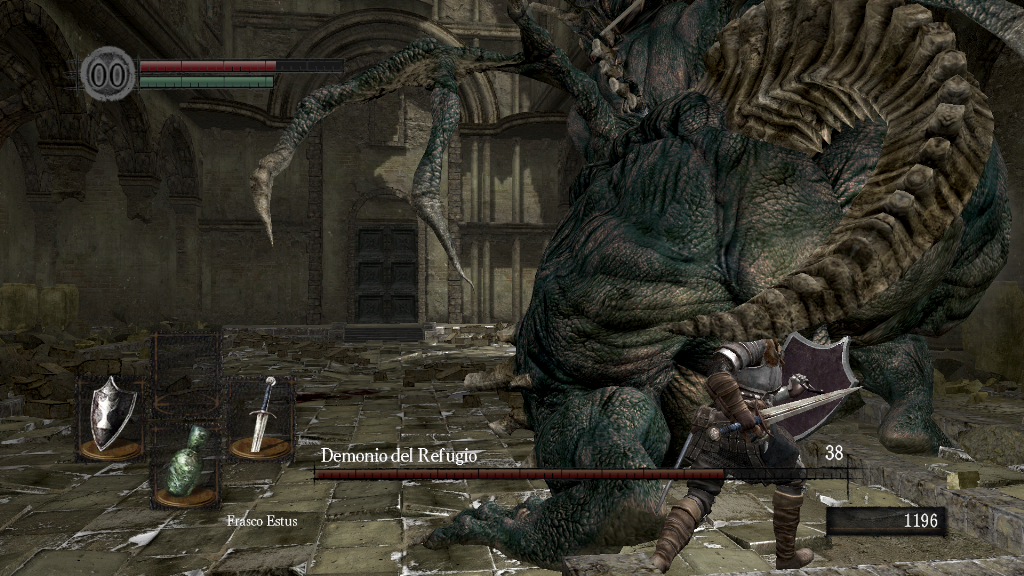asylumDemon: (252, 1, 1024, 572)
bossHP: (314, 469, 847, 479)
health: (138, 58, 343, 71)
humanity: (80, 45, 136, 102)
player: (652, 332, 862, 576)
souls: (825, 506, 945, 536)
stamina: (138, 74, 274, 88)
